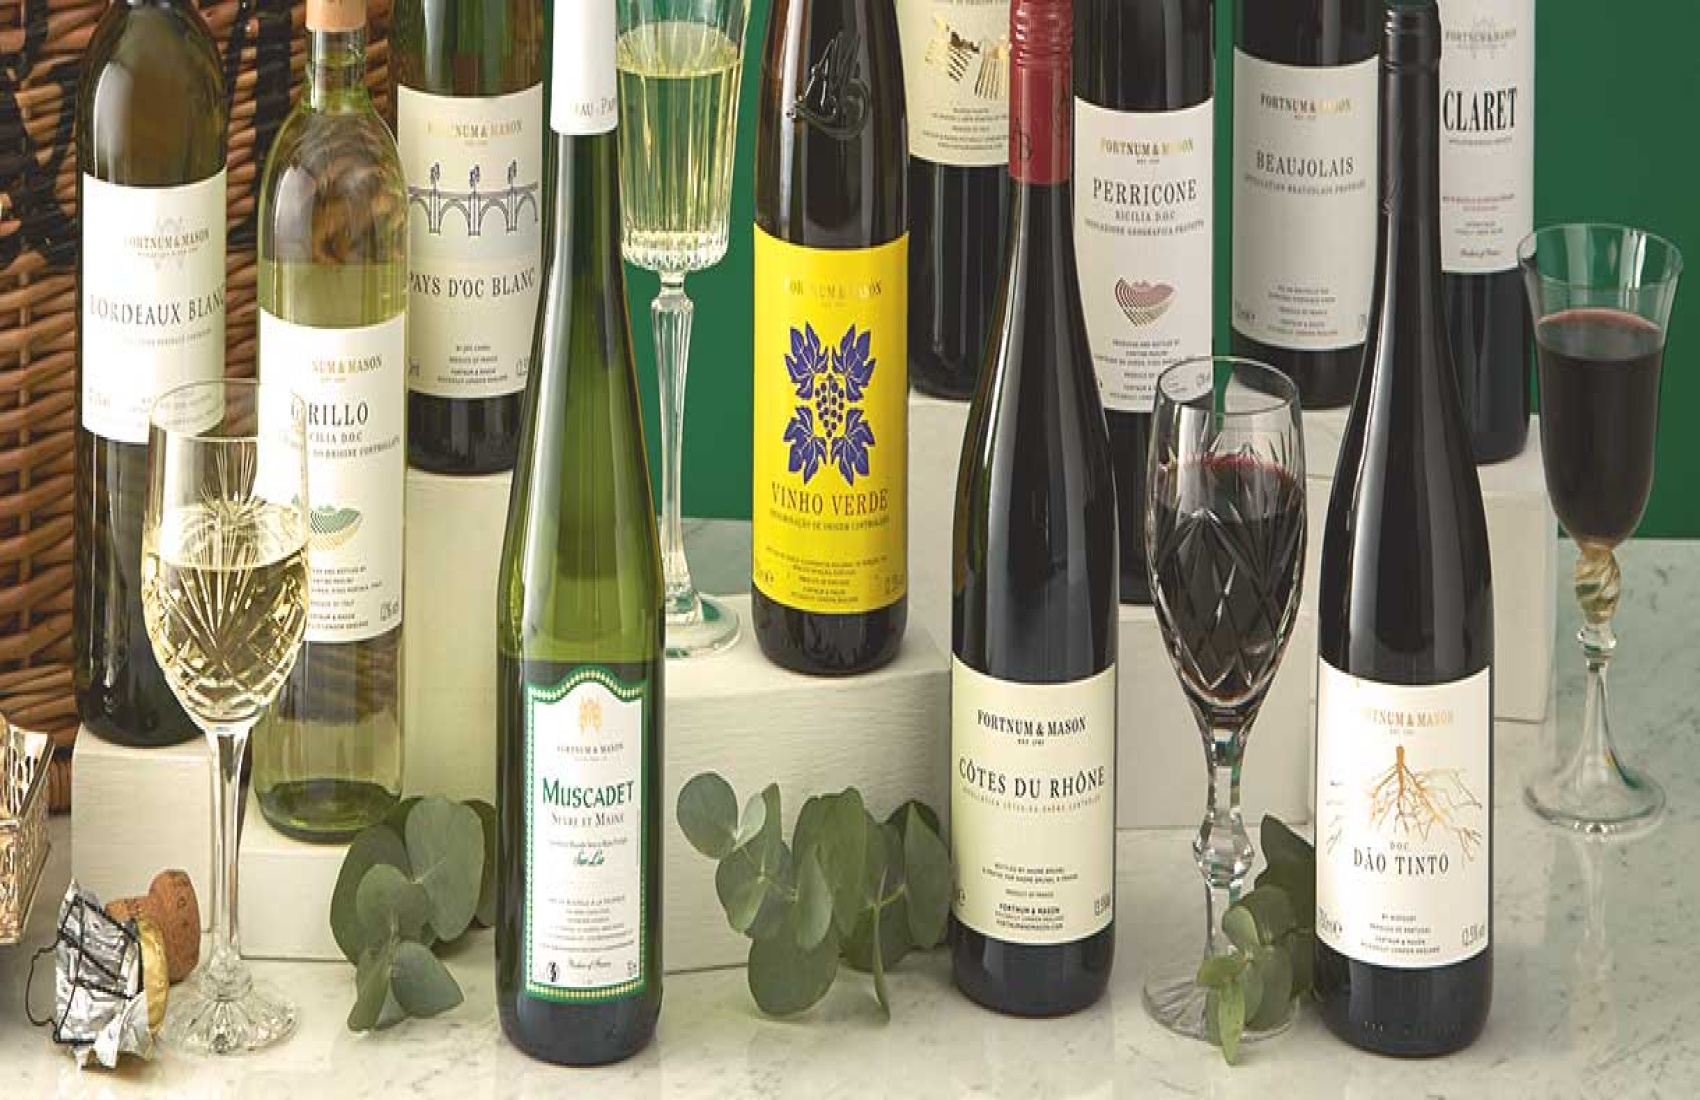wine: (948, 57, 1113, 1003), (1325, 93, 1489, 1039), (494, 100, 659, 1045), (256, 1, 418, 853), (76, 47, 242, 730), (748, 1, 914, 683)
